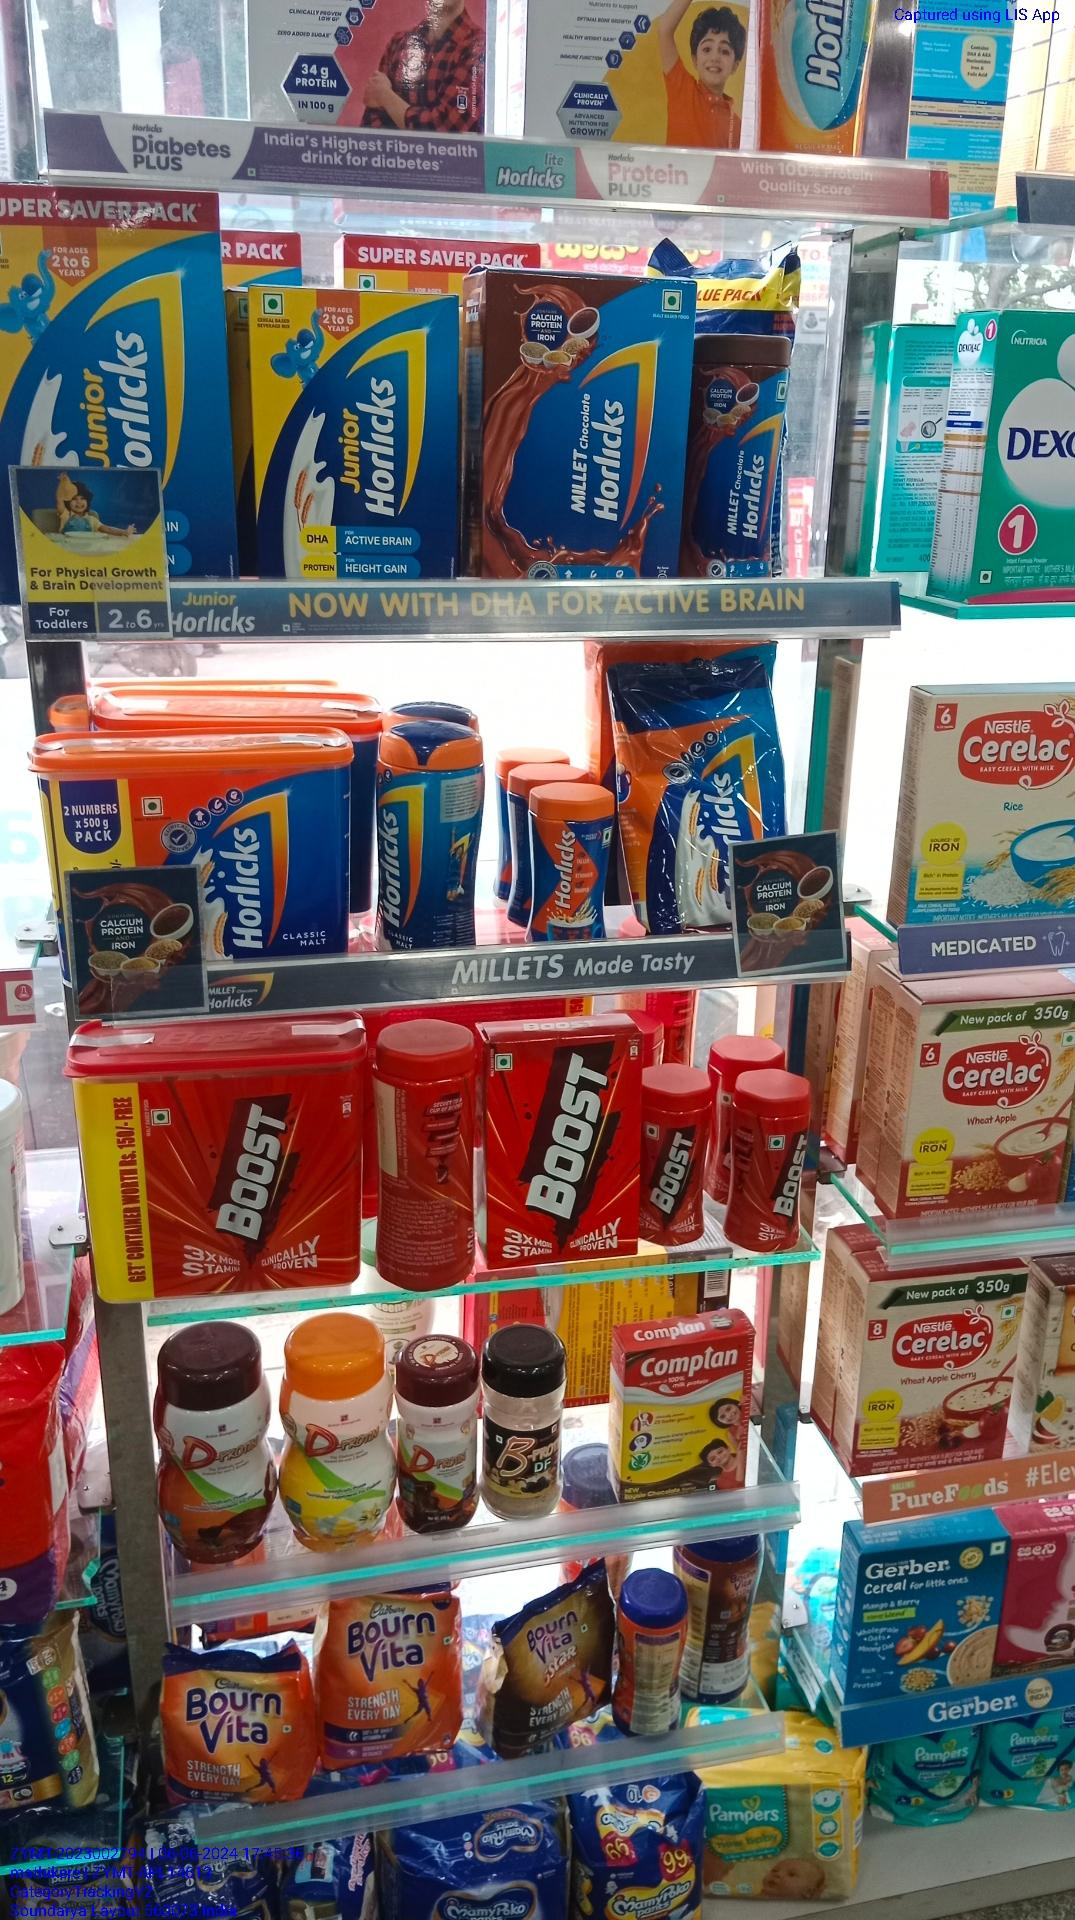BOURN_VITA_500_G_POUCH: (324, 1596, 459, 1779), (166, 1652, 313, 1813)
BOURN_VITA_FIVE_STAR_MAGIC_500_G_POUCH: (504, 1604, 619, 1764)
COMPLAN_CHOCOLATE_200_GMS_PACK: (625, 1345, 741, 1499)
HORLICK_CLASSIC_MALT_200_G_JAR: (529, 795, 600, 949)
HORLICK_CLASSIC_MALT_500_G_JAR: (369, 733, 439, 957)
HORLICK_CLASSIC_MALT_750_G_POUCH: (616, 645, 777, 938)
HORLICK_MALT_1_KG_CONTAINER: (30, 752, 351, 956)
